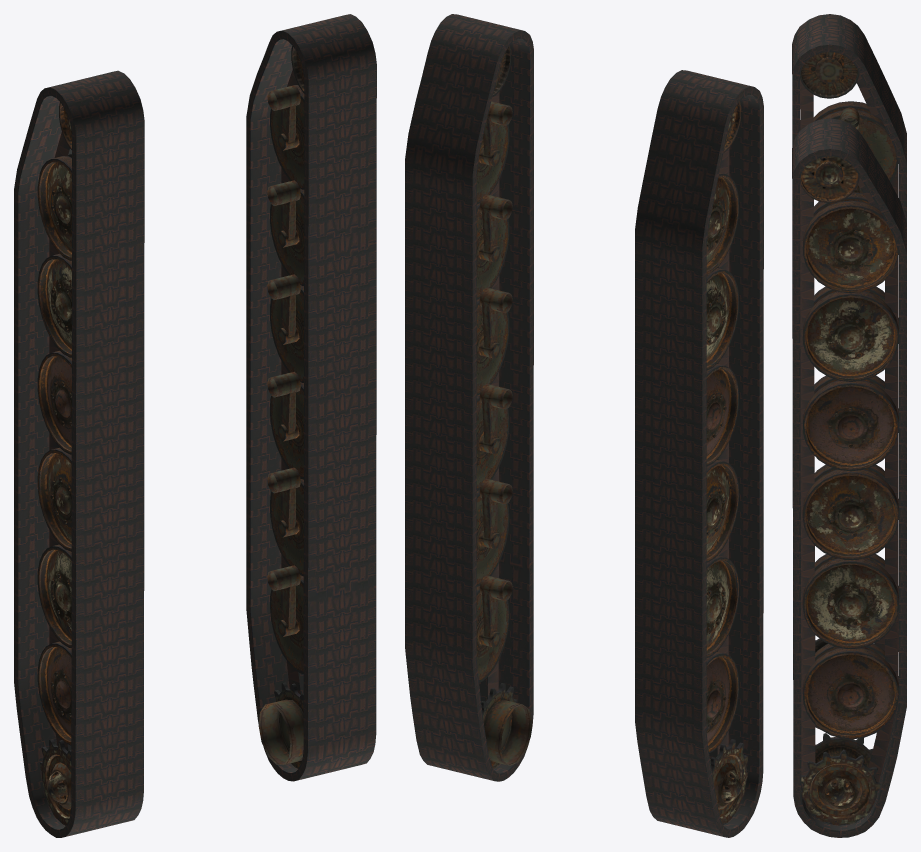
Rendered from Chassis_03.glb.
3 renders of one model, left to right at view 1: azimuth 30°, elevation 25°; view 2: azimuth 150°, elevation 25°; view 3: azimuth 270°, elevation 25°, orthographic. The views are drawn at different scales.
Parts seen in each view (by area): view 1: set_0_group_0, set_1_group_0, set_3_group_0, set_2_group_0; view 2: set_0_group_0, set_1_group_0, set_3_group_0, set_2_group_0; view 3: set_3_group_0, set_1_group_0, set_0_group_0, set_2_group_0.
Part boxes in pixels (x1,y1,x2,y2): set_0_group_0: (14, 70, 144, 837); set_1_group_0: (246, 14, 376, 781); set_3_group_0: (258, 45, 304, 768); set_2_group_0: (37, 102, 71, 825); set_0_group_0: (635, 70, 763, 837); set_1_group_0: (405, 14, 533, 781); set_3_group_0: (476, 45, 532, 768); set_2_group_0: (706, 101, 747, 824); set_3_group_0: (800, 156, 898, 825); set_1_group_0: (792, 118, 906, 837); set_0_group_0: (792, 14, 906, 729); set_2_group_0: (800, 52, 898, 652).
Size of the model in its own units: 2.89 by 6.82 by 1.03.
Materials: 4 (4 with a texture image).
